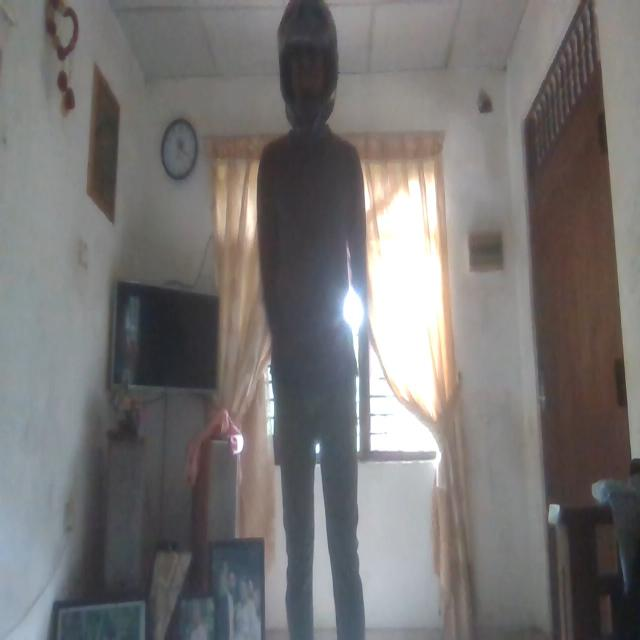Helmet_Wearer: (264, 0, 346, 139)
Person: (253, 3, 380, 640)
